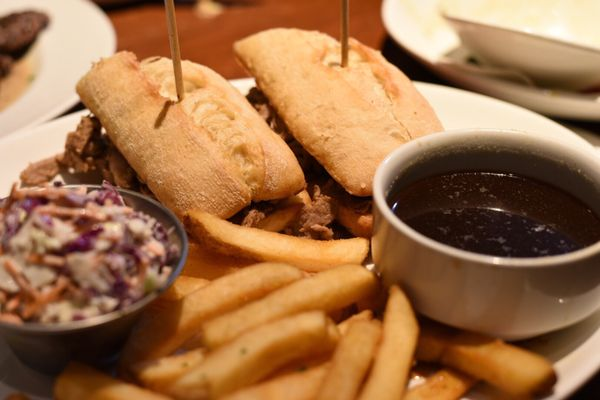soup: (230, 26, 444, 237), (55, 50, 308, 224)
sushi: (370, 124, 600, 342), (0, 177, 190, 374)
